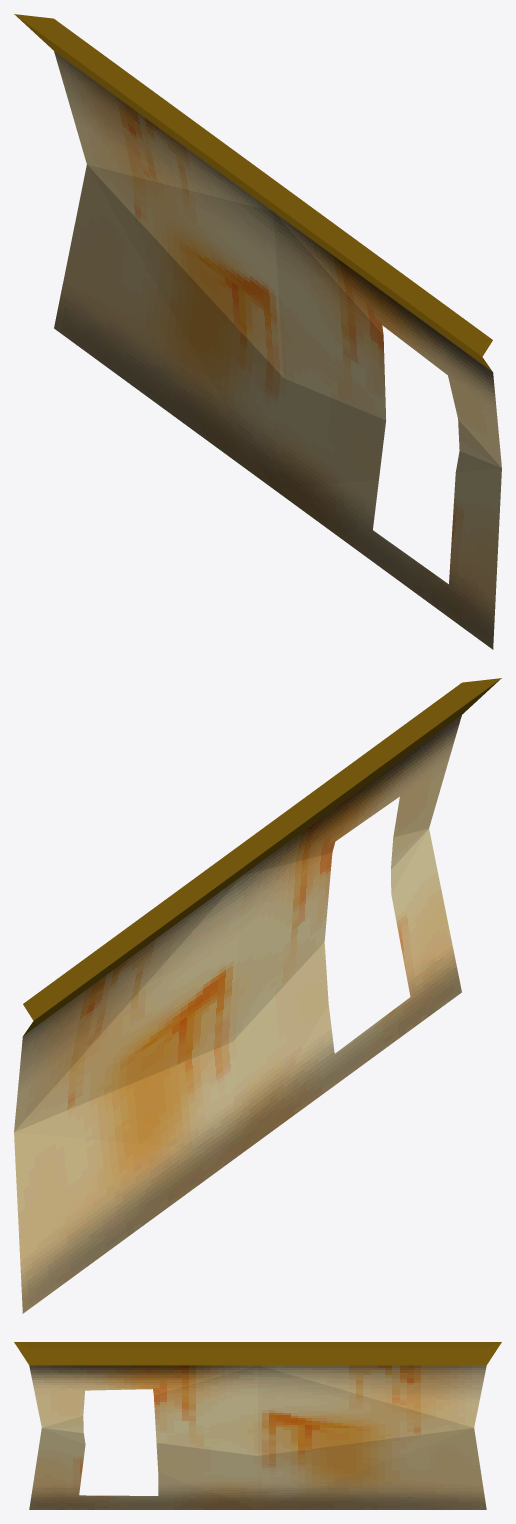
The model's file is W_A1_oxxx_1340.glb.
3 views of the same model, one above another, from view 1: azimuth 30°, elevation 25°; view 2: azimuth 150°, elevation 25°; view 3: azimuth 270°, elevation 25° (orthographic). The views are drawn at different scales.
Visible parts, largest first — view 1: polySurfaceShape1265, polySurfaceShape1267; view 2: polySurfaceShape1265, polySurfaceShape1267; view 3: polySurfaceShape1265, polySurfaceShape1267.
Boxes of the visible parts, bbox=[...] form: polySurfaceShape1265: bbox=[54, 51, 501, 649]; polySurfaceShape1267: bbox=[14, 14, 492, 371]; polySurfaceShape1265: bbox=[14, 715, 461, 1313]; polySurfaceShape1267: bbox=[23, 678, 501, 1035]; polySurfaceShape1265: bbox=[29, 1365, 486, 1509]; polySurfaceShape1267: bbox=[14, 1342, 501, 1365].
Size of the model in its own units: 0.0607 by 0.3891 by 1.07.
Materials: 2 (1 with a texture image).
